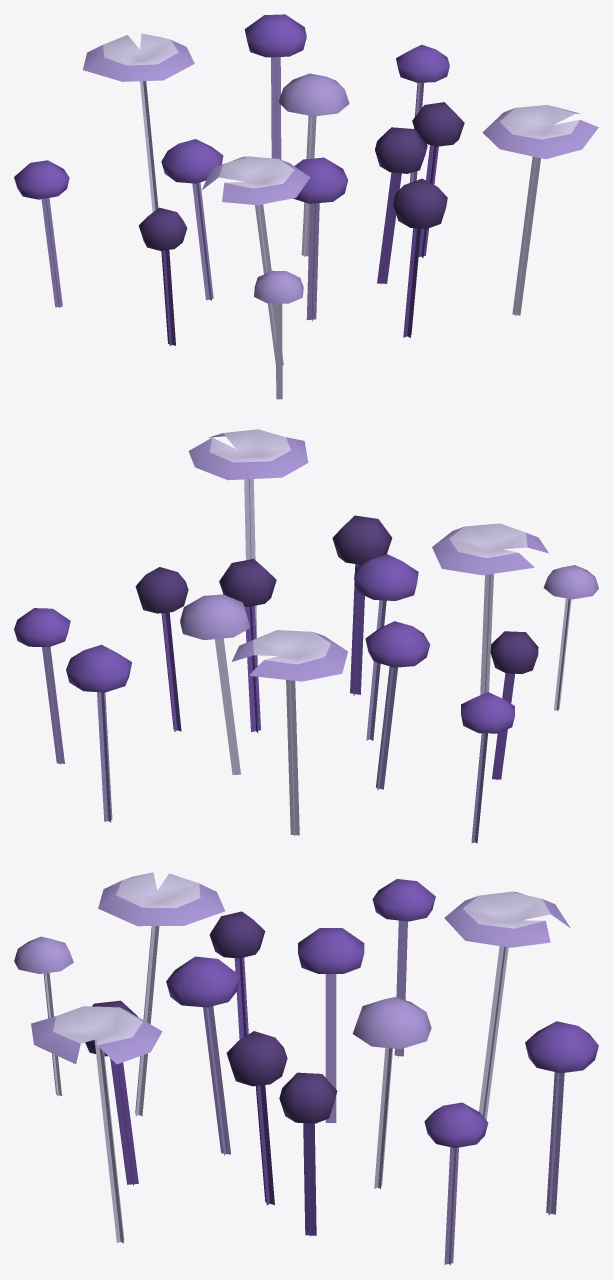
The model's file is Purple_Mushrooms_Cluster_2.glb.
The picture shows the model from 3 angles, top to bottom: view 1: azimuth 30°, elevation 25°; view 2: azimuth 150°, elevation 25°; view 3: azimuth 270°, elevation 25°; orthographic projection. The views are drawn at different scales.
Visible parts, largest first — view 1: Purple_Mushrooms_Cluster_2; view 2: Purple_Mushrooms_Cluster_2; view 3: Purple_Mushrooms_Cluster_2.
Part boxes in pixels (box(x1,y1,x2,y2)): Purple_Mushrooms_Cluster_2: box(14, 14, 598, 399); Purple_Mushrooms_Cluster_2: box(14, 429, 598, 843); Purple_Mushrooms_Cluster_2: box(14, 872, 598, 1265).
Bounding box in the file's own units: 0.4678 × 0.1954 × 0.4607.
1 material, 1 textured.
